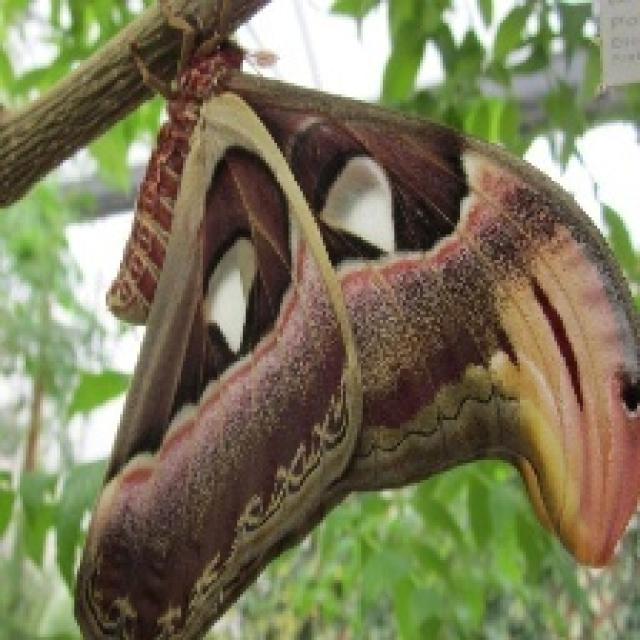butterfly: (69, 49, 637, 637)
